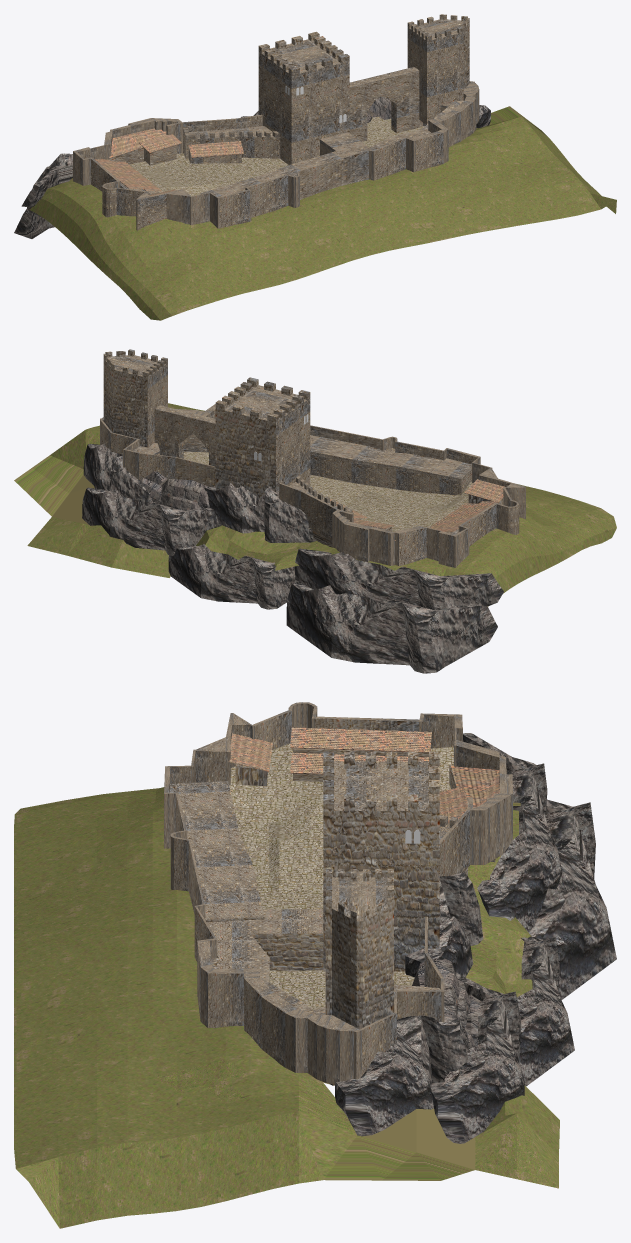
File: MurallaCompleta_completefbx.fbx
The picture shows the model from 3 angles, top to bottom: view 1: azimuth 30°, elevation 25°; view 2: azimuth 150°, elevation 25°; view 3: azimuth 270°, elevation 25°; orthographic projection. The views are drawn at different scales.
Parts seen in each view (by area): view 1: Plane, Cube, Cube.008, Cube.012, Plane.006, Cube.011, Cube.001, Cube.007, Cube.023, Cube.009, Cube.003, Plane.003 (+6 smaller); view 2: Plane, Cube, Cube.024, Cube.008, Cube.023, Cube.007, Cube.022, Cube.020, Cube.012, Plane.006, Cube.021, Cube.011 (+6 smaller); view 3: Plane, Cube, Cube.008, Plane.006, Cube.012, Cube.024, Cube.019, Cube.020, Cube.023, Cube.007, Cube.009, Cube.022 (+8 smaller).
Part boxes in pixels (left/top/right/bottom): Plane: left=29, top=106, right=616, bottom=320; Cube: left=73, top=81, right=479, bottom=230; Cube.008: left=258, top=31, right=349, bottom=164; Cube.012: left=407, top=14, right=469, bottom=124; Plane.006: left=90, top=116, right=424, bottom=209; Cube.011: left=349, top=67, right=424, bottom=141; Cube.001: left=183, top=126, right=280, bottom=158; Cube.007: left=200, top=147, right=358, bottom=196; Cube.023: left=21, top=153, right=72, bottom=207; Cube.009: left=320, top=129, right=430, bottom=155; Cube.003: left=109, top=145, right=176, bottom=165; Plane.003: left=109, top=128, right=166, bottom=158; Plane: left=14, top=403, right=616, bottom=606; Cube: left=100, top=404, right=525, bottom=567; Cube.024: left=286, top=583, right=497, bottom=673; Cube.008: left=215, top=377, right=310, bottom=499; Cube.023: left=295, top=548, right=503, bottom=610; Cube.007: left=310, top=435, right=471, bottom=495; Cube.022: left=168, top=544, right=302, bottom=609; Cube.020: left=82, top=487, right=221, bottom=556; Cube.012: left=103, top=349, right=167, bottom=447; Plane.006: left=183, top=451, right=472, bottom=531; Cube.021: left=204, top=483, right=316, bottom=542; Cube.011: left=154, top=405, right=215, bottom=466; Plane: left=14, top=787, right=559, bottom=1228; Cube: left=164, top=702, right=512, bottom=1084; Cube.008: left=323, top=751, right=439, bottom=971; Plane.006: left=229, top=743, right=453, bottom=1009; Cube.012: left=325, top=869, right=393, bottom=1029; Cube.024: left=528, top=799, right=616, bottom=1000; Cube.019: left=335, top=1015, right=470, bottom=1136; Cube.020: left=431, top=972, right=524, bottom=1143; Cube.023: left=463, top=733, right=562, bottom=932; Cube.007: left=169, top=781, right=264, bottom=921; Cube.009: left=207, top=909, right=323, bottom=984; Cube.022: left=517, top=936, right=574, bottom=1086.
Size of the model in its own units: 3201 by 1084 by 1998.
